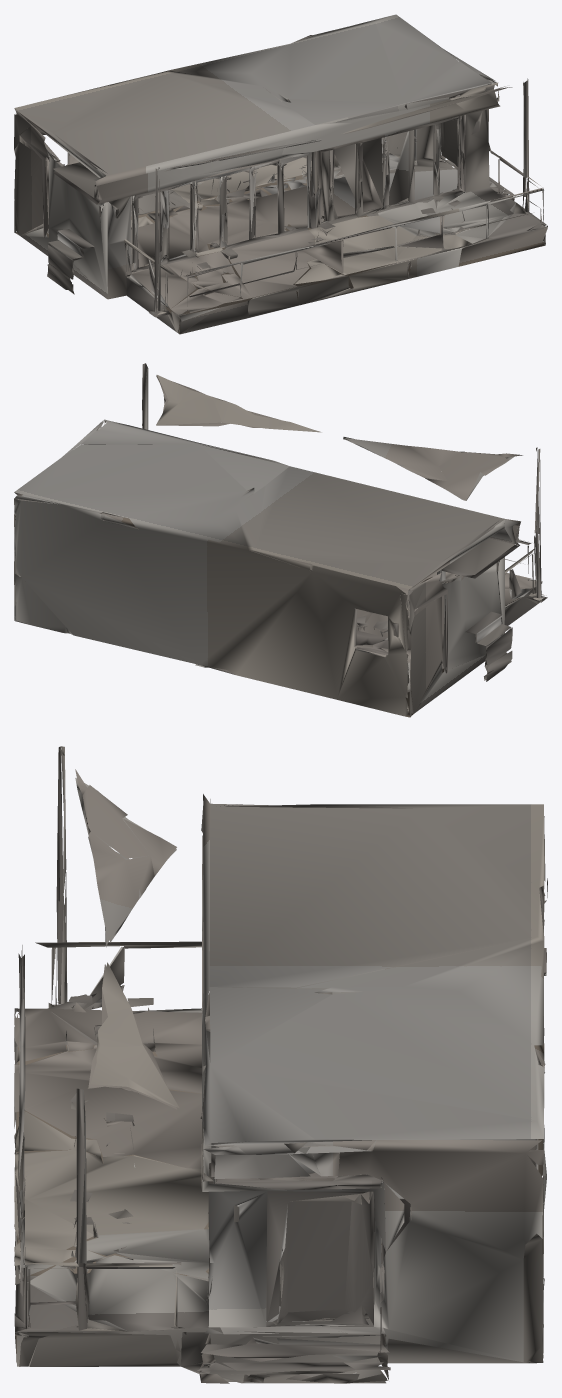
Rendered from flightdeck.glb.
The picture shows the model from 3 angles, top to bottom: view 1: azimuth 30°, elevation 25°; view 2: azimuth 150°, elevation 25°; view 3: azimuth 270°, elevation 25°; orthographic projection. The views are drawn at different scales.
Parts seen in each view (by area): view 1: LO.001; view 2: LO.001; view 3: LO.001.
Boxes of the visible parts, box(x1,y1,x2,y2) form: LO.001: box(14, 14, 547, 334); LO.001: box(14, 363, 547, 717); LO.001: box(14, 746, 547, 1383).
Size of the model in its own units: 20 by 7.16 by 12.
1 material, 1 textured.
